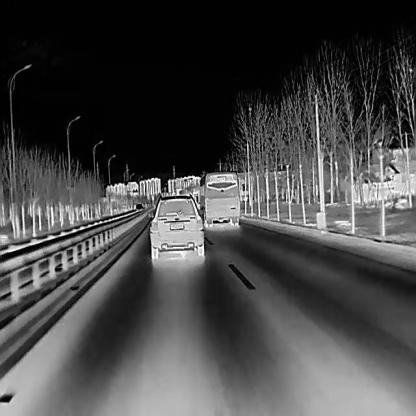bus: (198, 171, 239, 226)
car: (146, 193, 204, 259), (135, 203, 143, 212)
